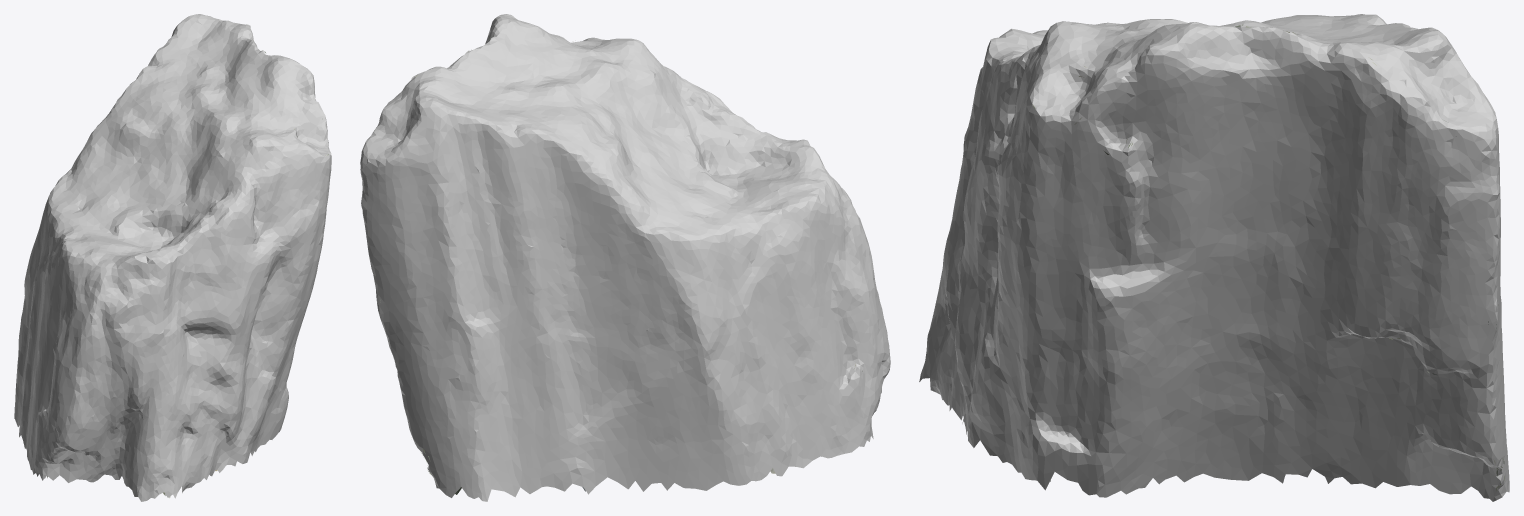
The picture shows the model from 3 angles, left to right: view 1: azimuth 30°, elevation 25°; view 2: azimuth 150°, elevation 25°; view 3: azimuth 270°, elevation 25°; orthographic projection. The views are drawn at different scales.
Parts seen in each view (by area): view 1: model; view 2: model; view 3: model.
Part boxes in pixels (box(x1,y1,x2,y2)): model: box(14, 14, 331, 501); model: box(360, 14, 890, 501); model: box(919, 14, 1509, 501).
Bounding box in the file's own units: 19.19 × 19.04 × 20.
Materials: 3 (2 with a texture image).
